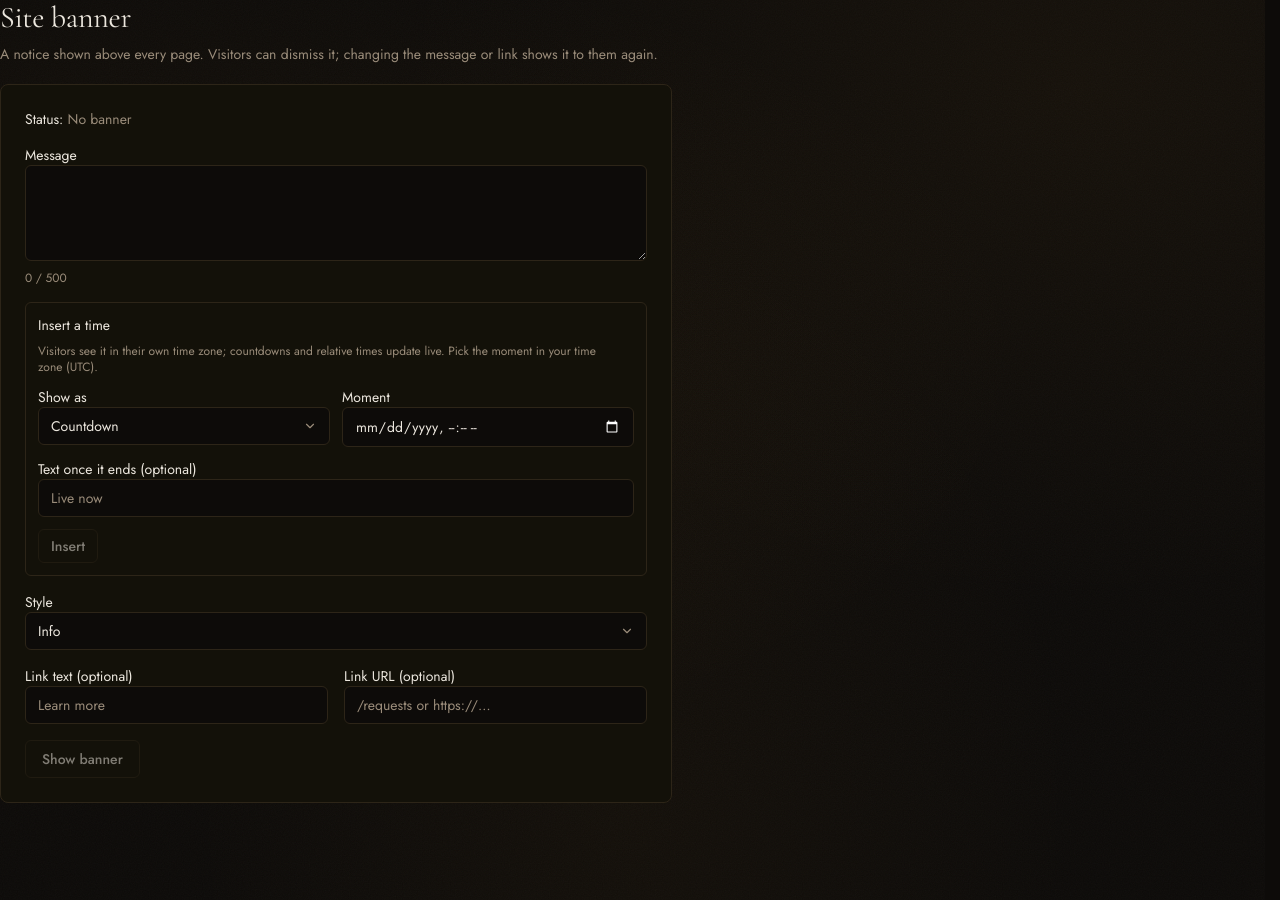
Test case: shows, updates, and removes the site banner with a preview
Expected: the text "No banner" is shown, [68, 109, 132, 129]
Expected: the button "Show banner" is disabled, [25, 740, 140, 778]
Type " Requests are paused. " into the text box labelled "Message". click: (336, 213)
box: [25, 165, 647, 261]
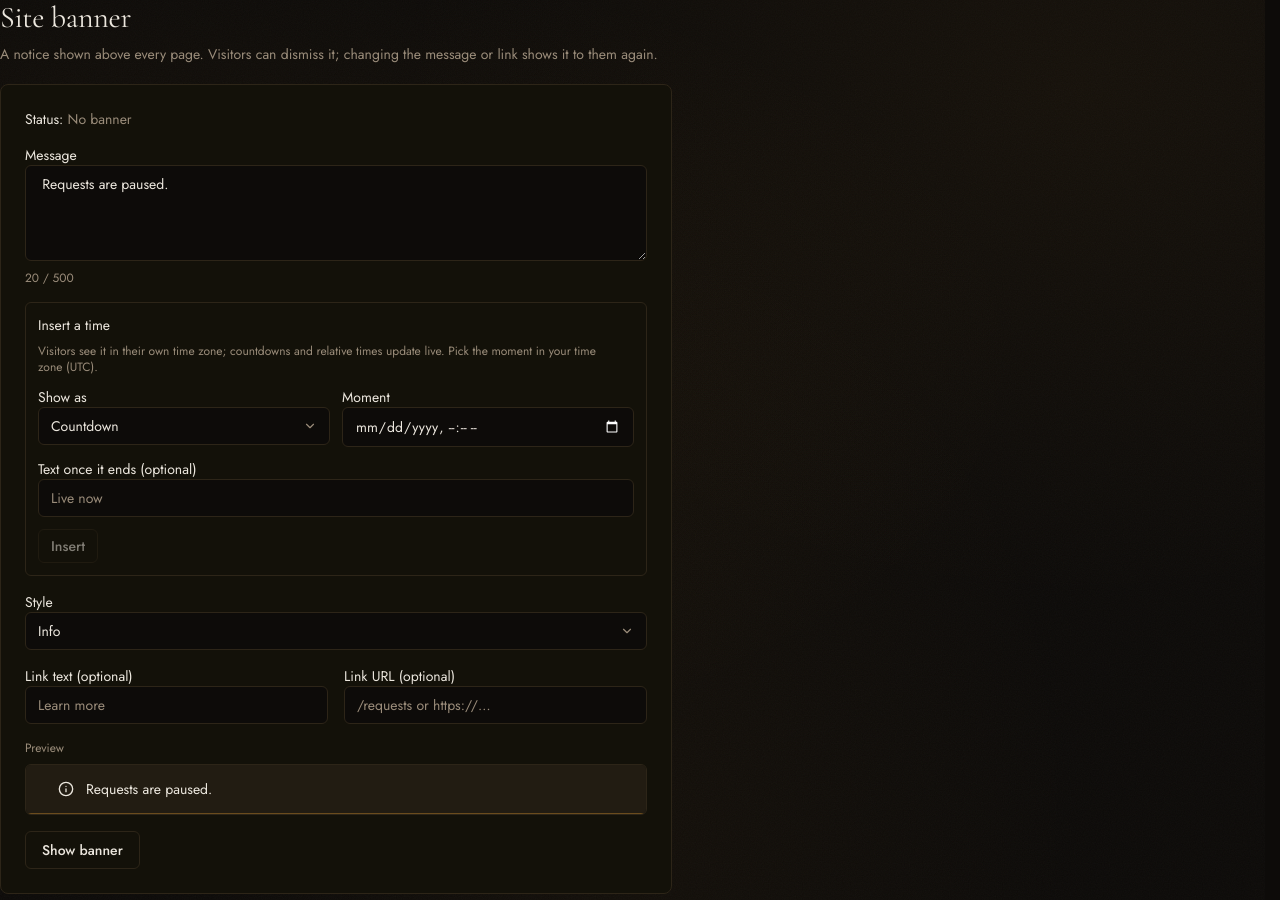
Click the button with aria-label "Banner style". click: click(49, 631)
box: [25, 612, 647, 650]
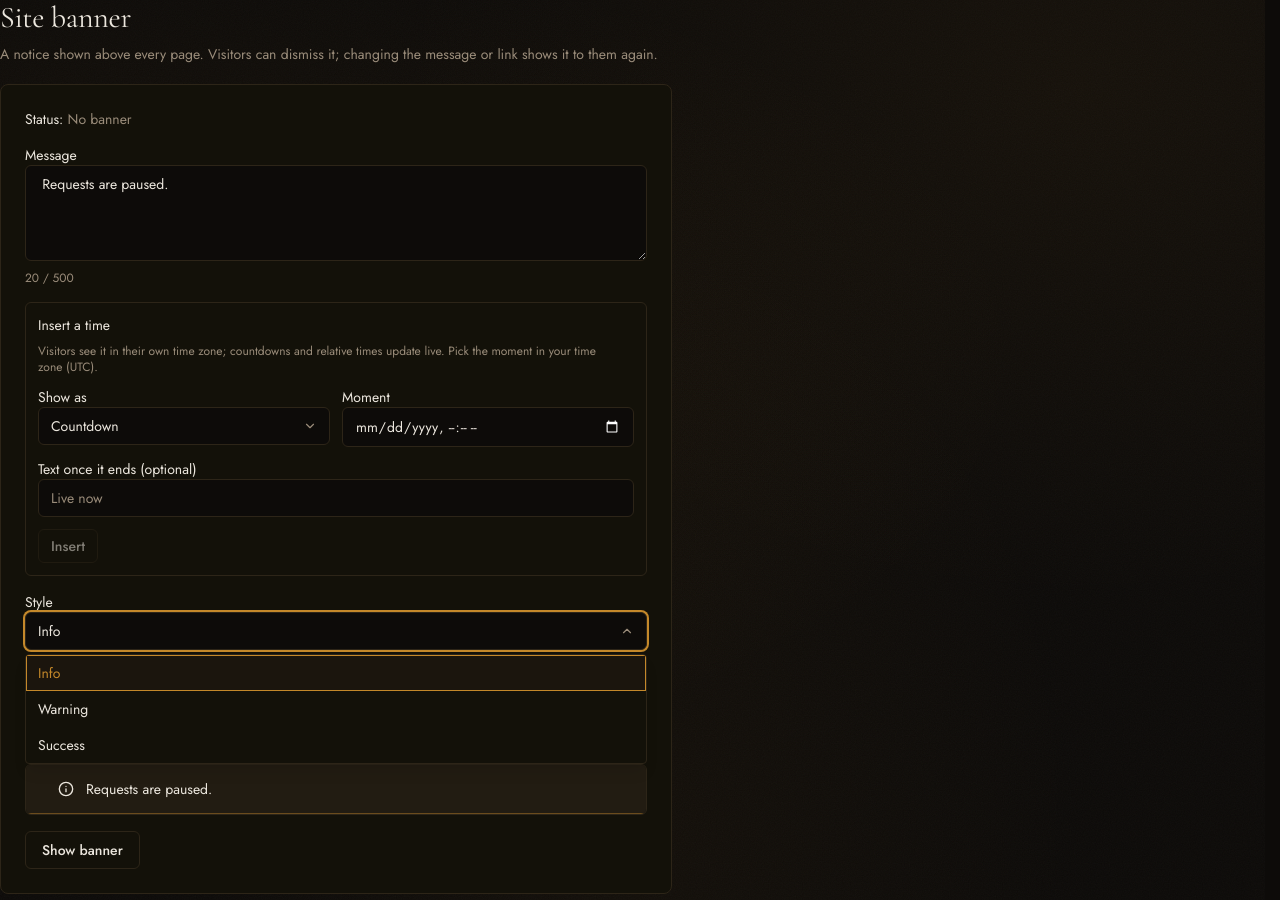
Click the option "Warning". click: click(63, 709)
box: [26, 691, 646, 727]
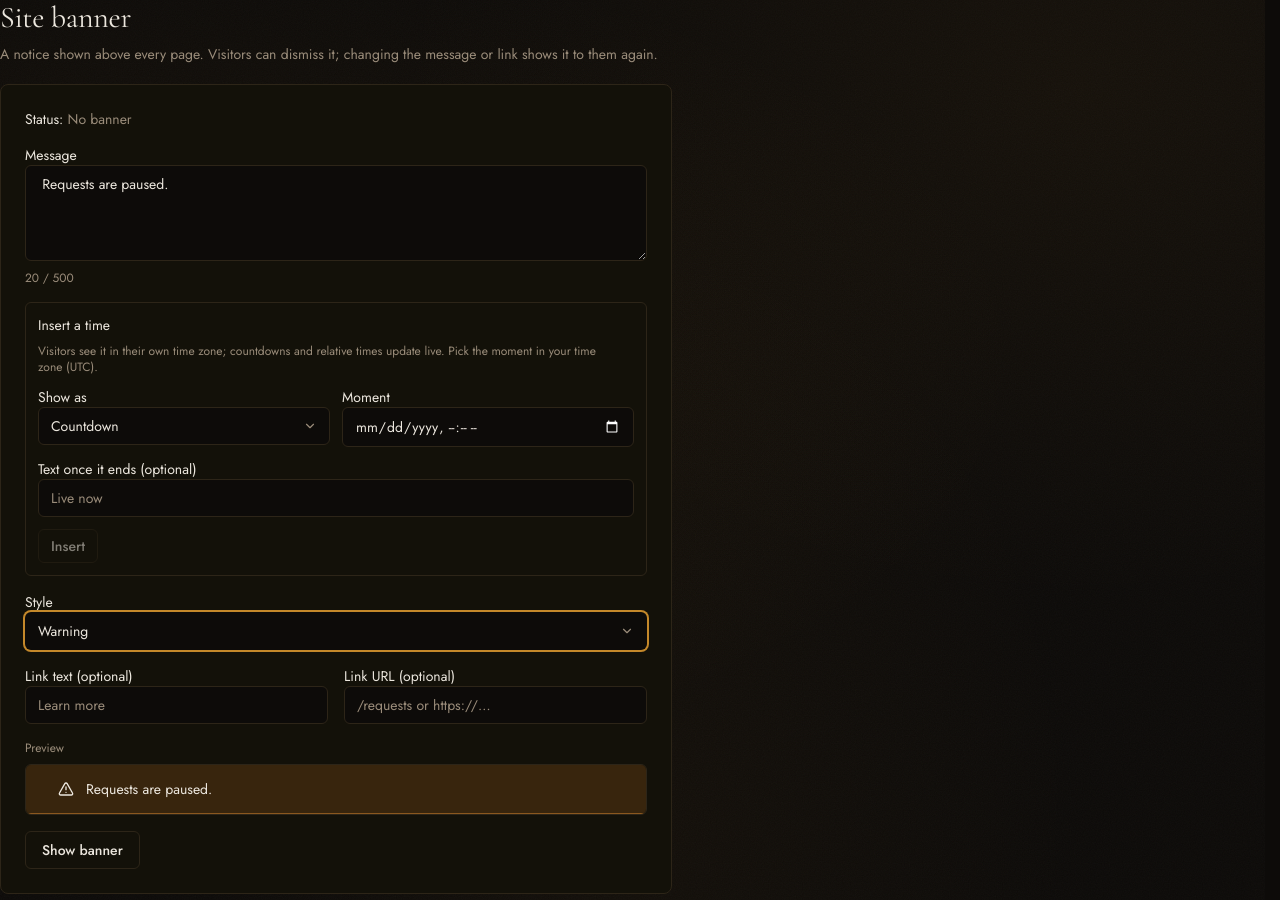
Type "Details" into the field labelled "Link text (optional)". click: (176, 705)
box: [25, 686, 328, 724]
Type "/requests" into the field labelled "Link URL (optional)". click: (496, 705)
box: [344, 686, 647, 724]
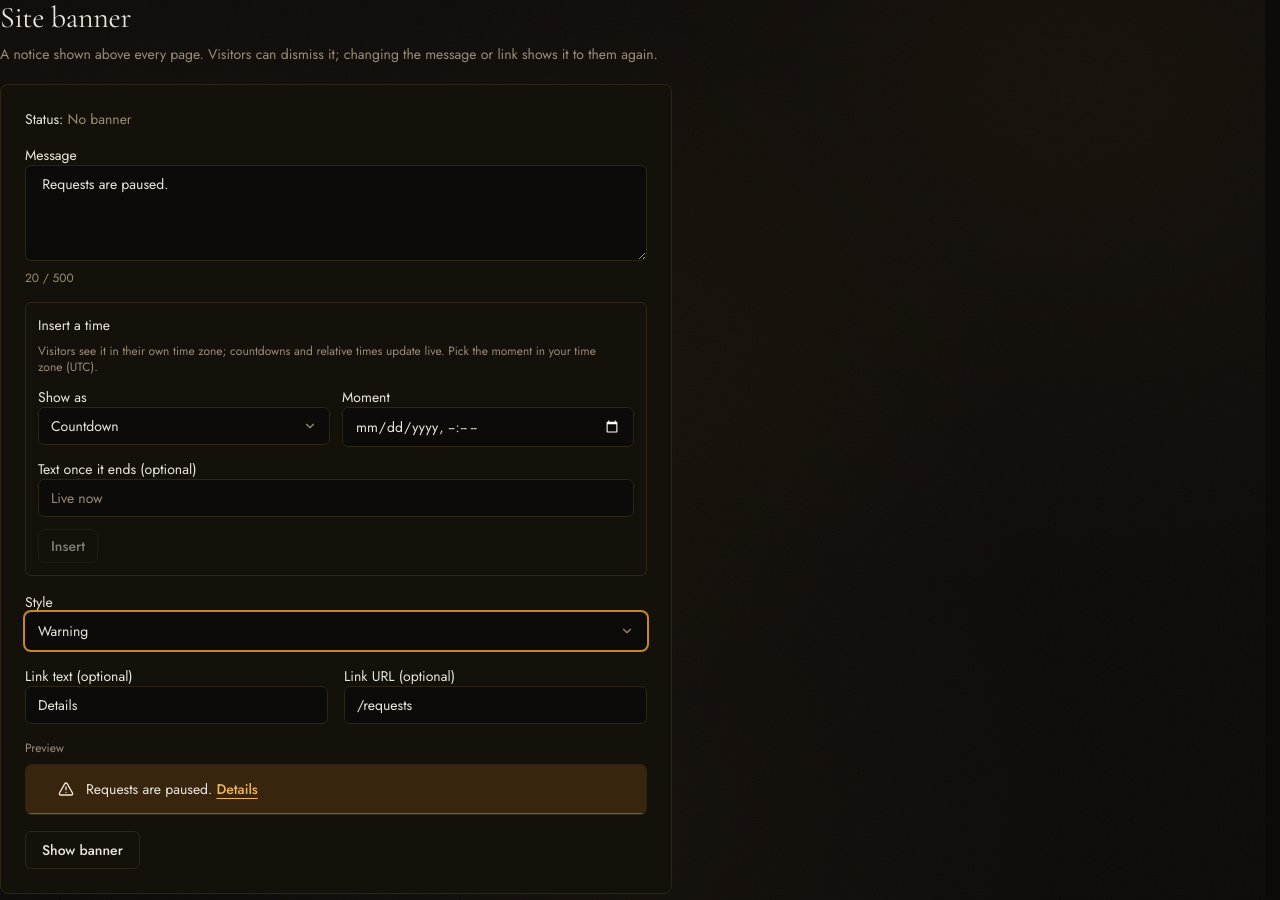
Now the element named "Banner preview" shows "Requests are paused.", box [86, 779, 212, 799]
Now the element named "Banner preview" shows "Details", box [216, 779, 258, 799]
Click the button "Show banner". click: click(82, 850)
box: [25, 831, 140, 869]
(page scrolled)
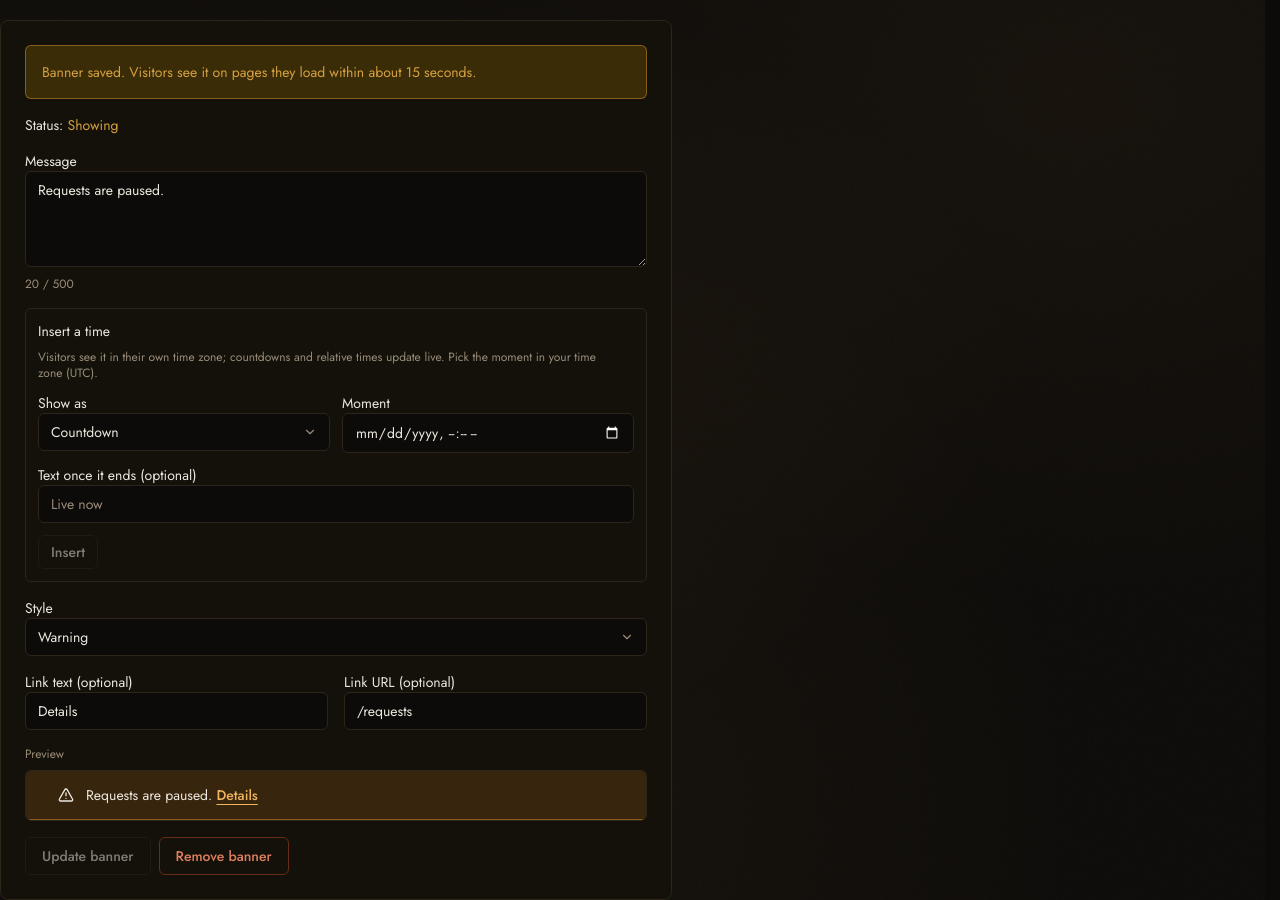
Now the text "Banner saved. Visitors see it on pages they load within about 15 seconds." is shown, box [25, 45, 647, 99]
Now the text "Showing" is shown, box [68, 115, 118, 135]
Now the button "Update banner" is disabled, box [25, 837, 150, 875]
Click the button "Remove banner". click: click(224, 856)
box: [158, 837, 289, 875]
(page scrolled)
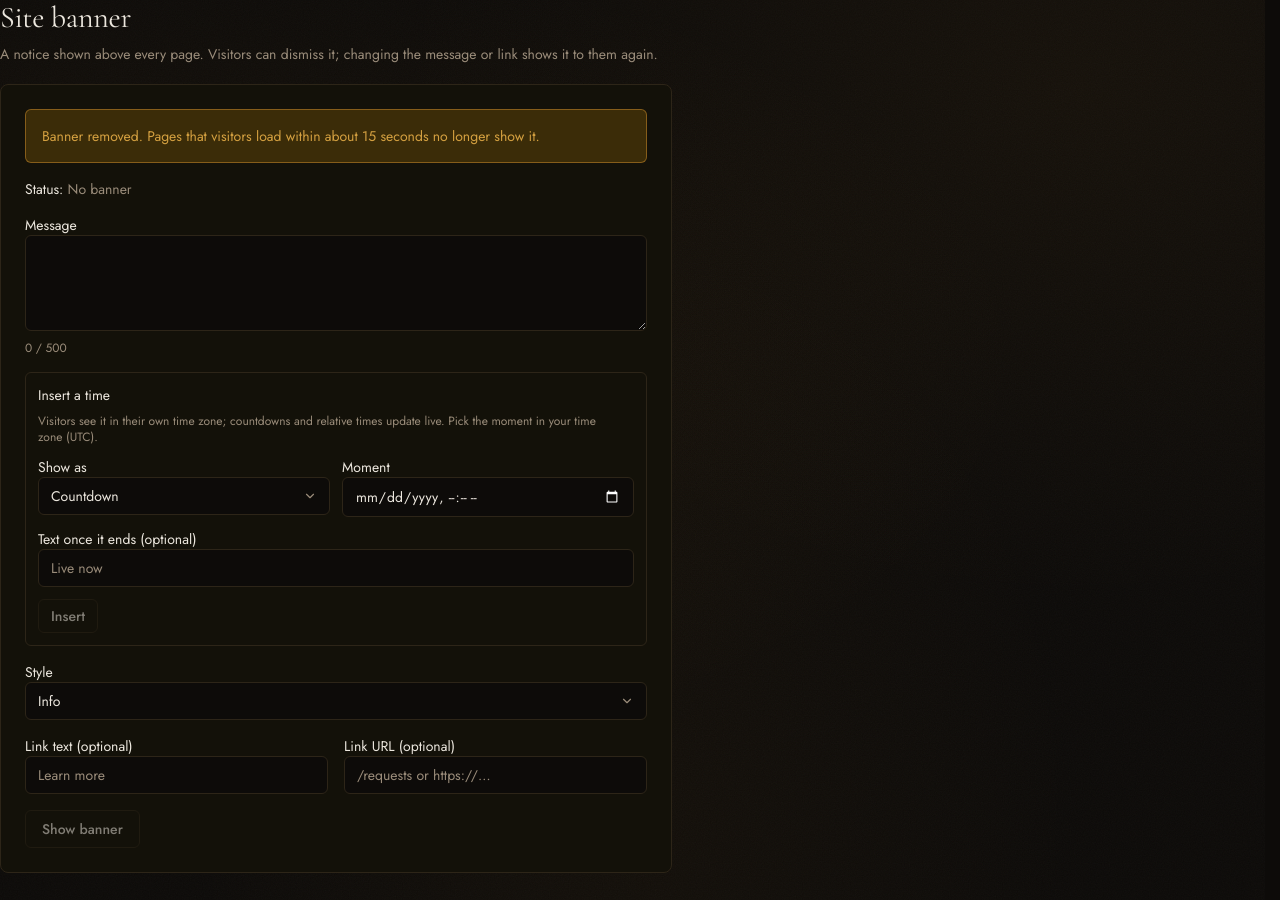
Now the text "Banner removed" is shown, box [42, 126, 540, 146]
Now the text "No banner" is shown, box [68, 179, 132, 199]
Now the text box labelled "Message" is empty, box [25, 235, 647, 331]
